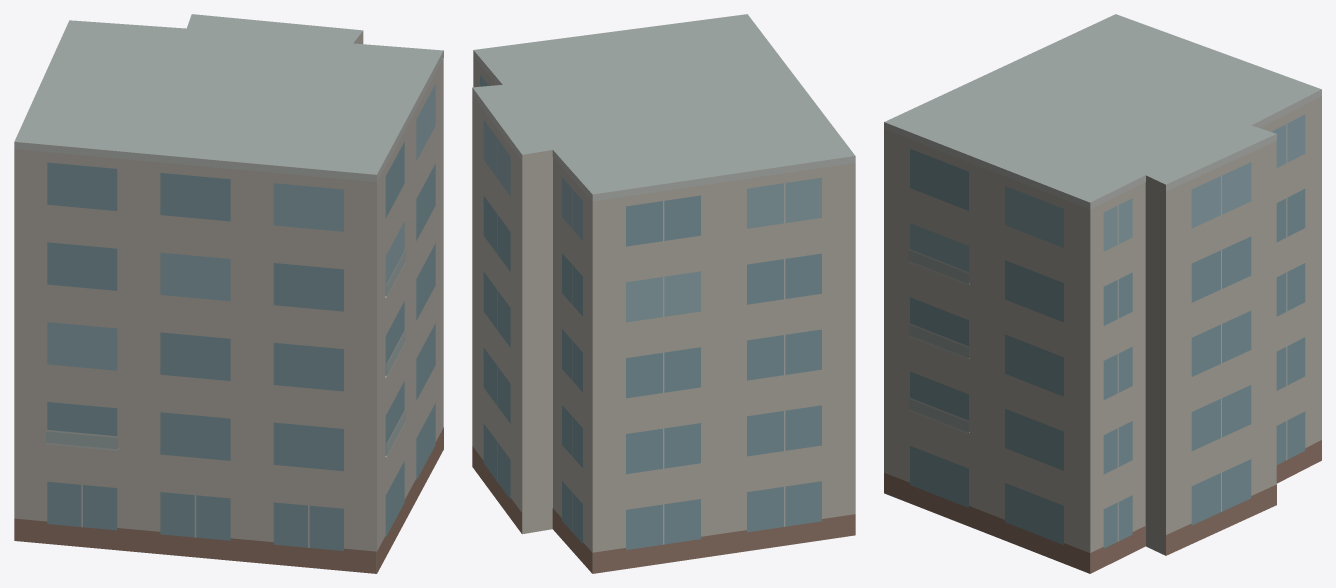
The model's file is survey-upis-32899554.glb.
3 renders of one model, left to right at view 1: azimuth 30°, elevation 25°; view 2: azimuth 150°, elevation 25°; view 3: azimuth 270°, elevation 25°, orthographic. The views are drawn at different scales.
Visible parts, largest first — view 1: survey-upis-32899554.tmp; view 2: survey-upis-32899554.tmp; view 3: survey-upis-32899554.tmp.
Boxes of the visible parts, bbox=[...] form: survey-upis-32899554.tmp: bbox=[14, 14, 443, 573]; survey-upis-32899554.tmp: bbox=[472, 14, 855, 573]; survey-upis-32899554.tmp: bbox=[884, 14, 1321, 573].
Bounding box in the file's own units: 14.4 × 13.2 × 14.12.
